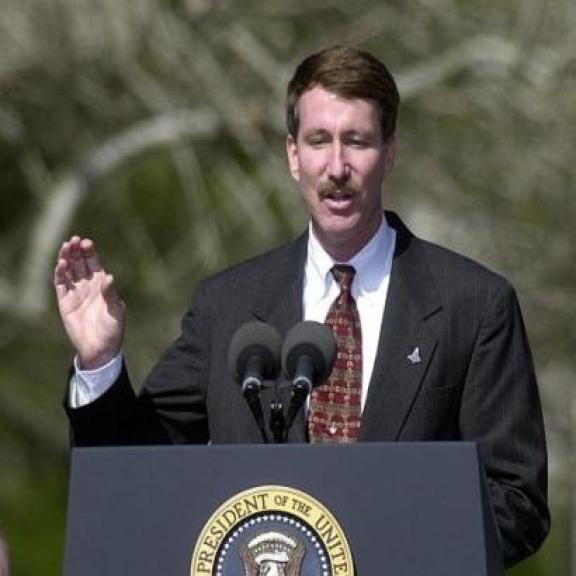face: (280, 88, 405, 244)
